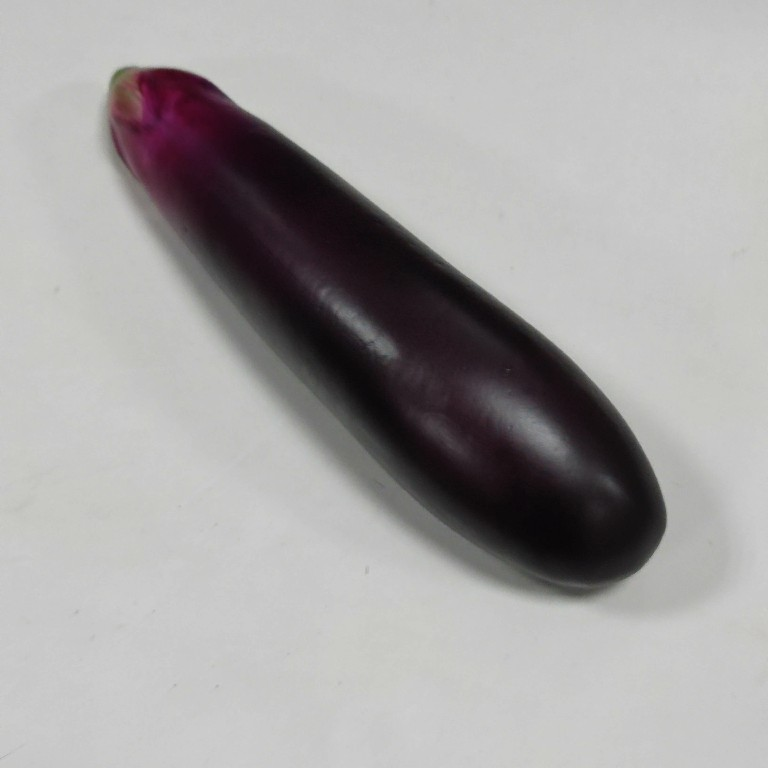fruit_eggplant: (101, 56, 675, 603)
